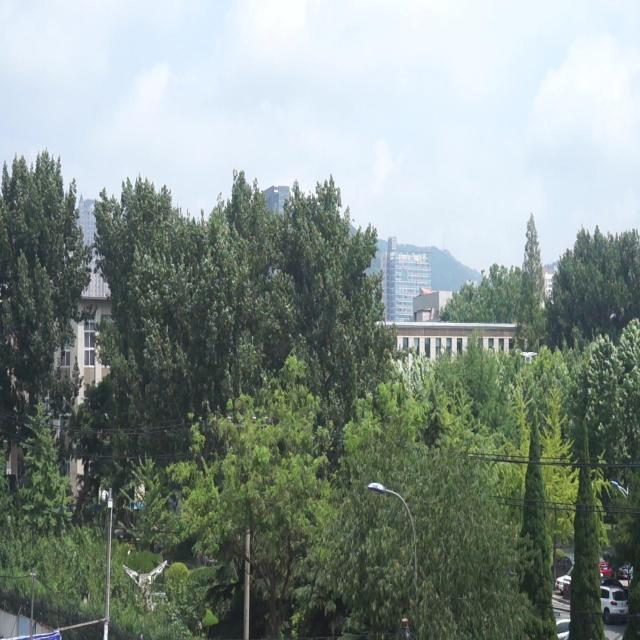UAV: (520, 352, 538, 364)
